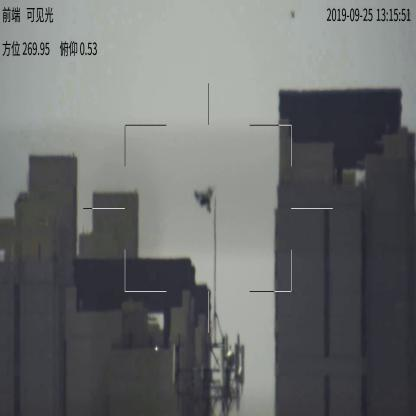uav: (191, 186, 217, 213)
